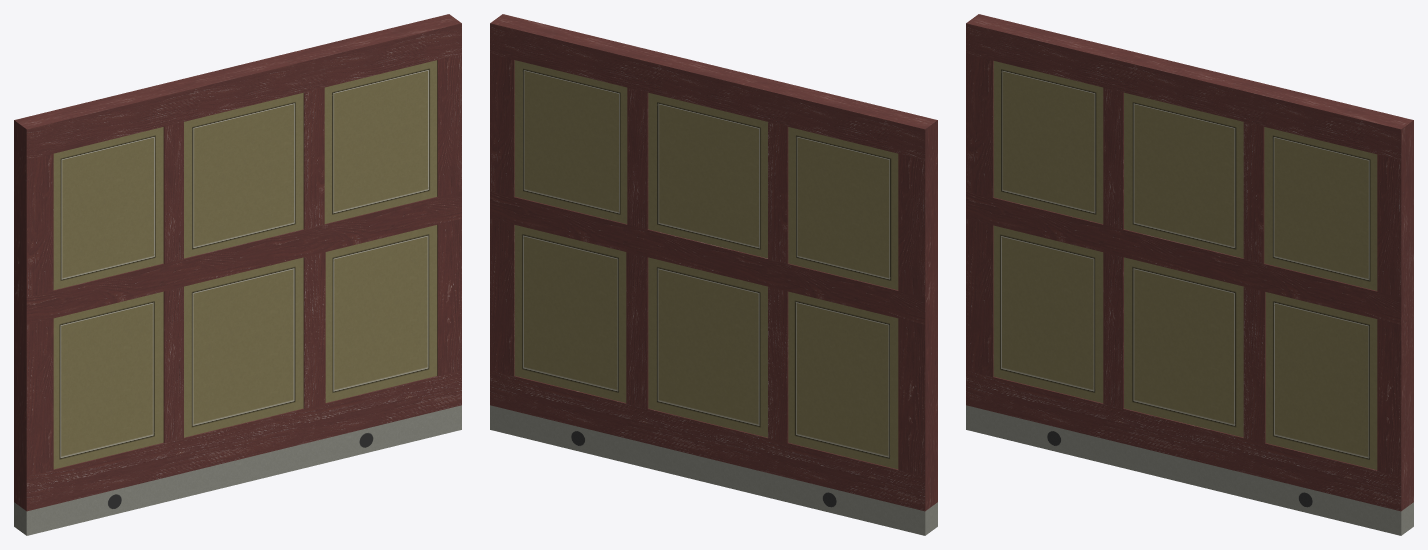
File: SM_Sun_Dae_Wall_E.fbx
3 renders of one model, left to right at view 1: azimuth 30°, elevation 25°; view 2: azimuth 150°, elevation 25°; view 3: azimuth 330°, elevation 25°, orthographic.
Visible parts, largest first — view 1: SM_Sun_Dae_Wall_E; view 2: SM_Sun_Dae_Wall_E; view 3: SM_Sun_Dae_Wall_E.
Boxes of the visible parts, <box> form: SM_Sun_Dae_Wall_E: <box>14,14,461,535</box>; SM_Sun_Dae_Wall_E: <box>490,14,937,535</box>; SM_Sun_Dae_Wall_E: <box>966,14,1413,535</box>.
Size of the model in its own units: 396 by 354 by 20.
